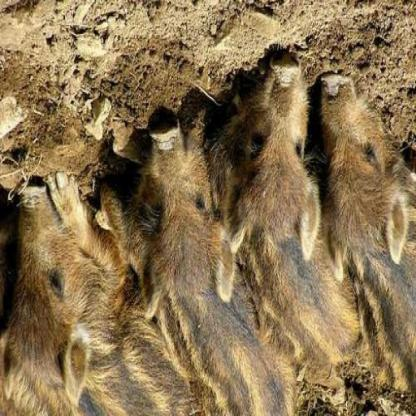boar: (216, 14, 356, 375), (0, 184, 196, 416), (146, 110, 271, 416), (310, 50, 415, 387)
